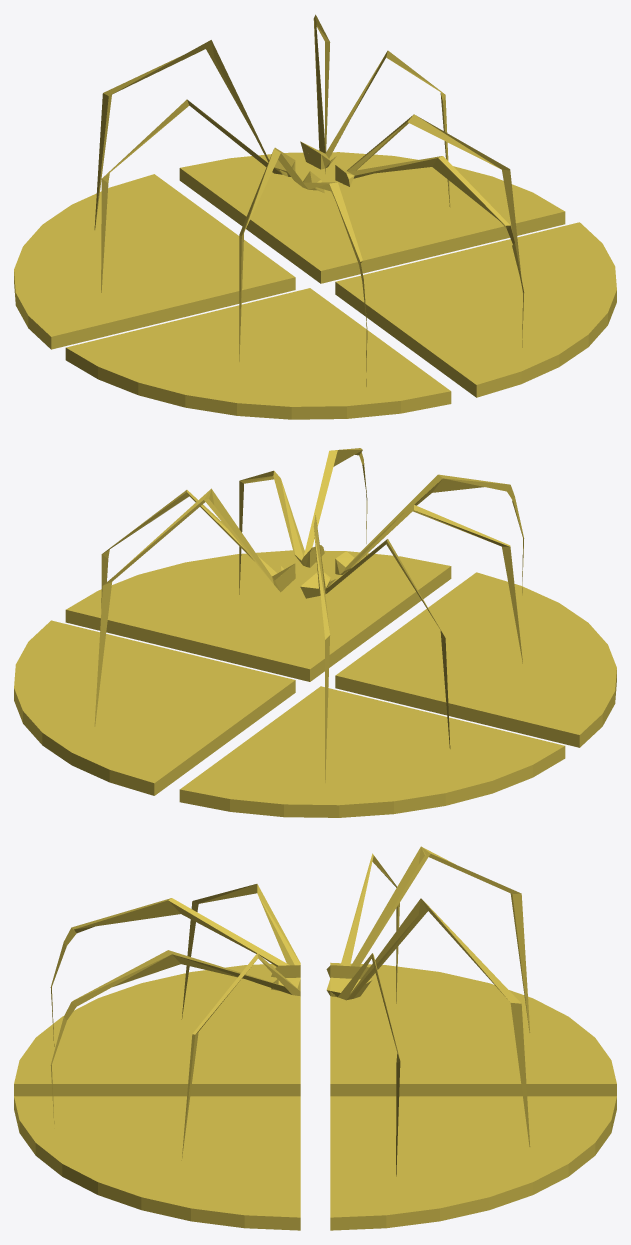
Rendered from plastic_little.fbx.
The picture shows the model from 3 angles, top to bottom: view 1: azimuth 30°, elevation 25°; view 2: azimuth 150°, elevation 25°; view 3: azimuth 270°, elevation 25°; orthographic projection.
Parts seen in each view (by area): view 1: Cylinder.003, Cylinder.001, Cylinder, Cylinder.002; view 2: Cylinder, Cylinder.002, Cylinder.001, Cylinder.003; view 3: Cylinder.002, Cylinder.003, Cylinder.001, Cylinder.
Boxes of the visible parts, x1,y1,x2,y2 form: Cylinder.003: (335,114,616,397); Cylinder.001: (65,148,451,419); Cylinder: (14,40,295,349); Cylinder.002: (179,14,565,283); Cylinder: (179,515,565,817); Cylinder.002: (14,488,295,795); Cylinder.001: (335,474,616,747); Cylinder.003: (65,448,451,681); Cylinder.002: (326,898,616,1230); Cylinder.003: (14,950,300,1230); Cylinder.001: (14,884,300,1096); Cylinder: (326,846,616,1096).
Size of the model in its own units: 1016 by 429 by 1016.
